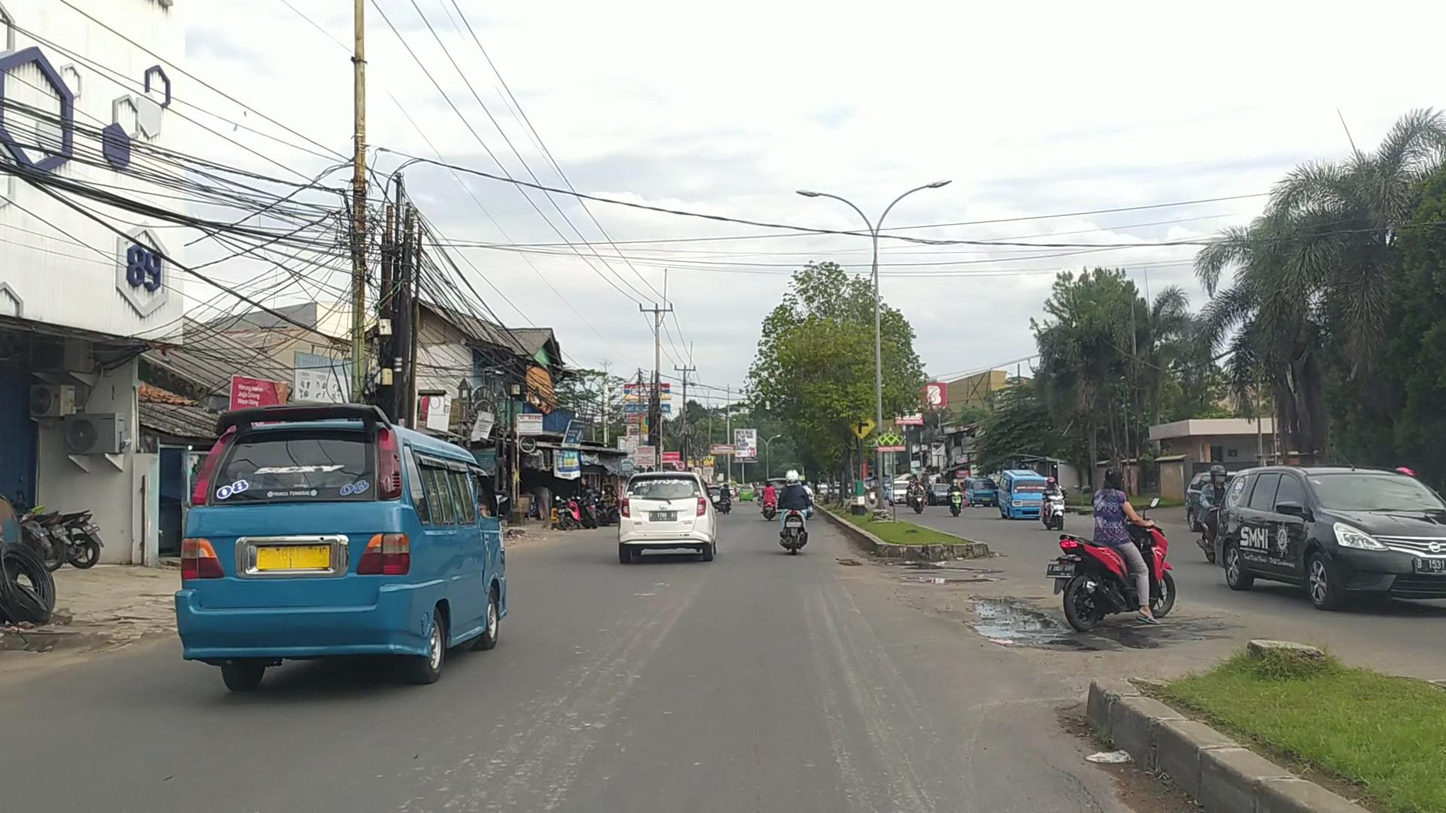pothole: (967, 595, 1091, 650), (1096, 623, 1153, 647), (895, 562, 993, 572), (900, 576, 994, 583), (837, 556, 858, 567)
